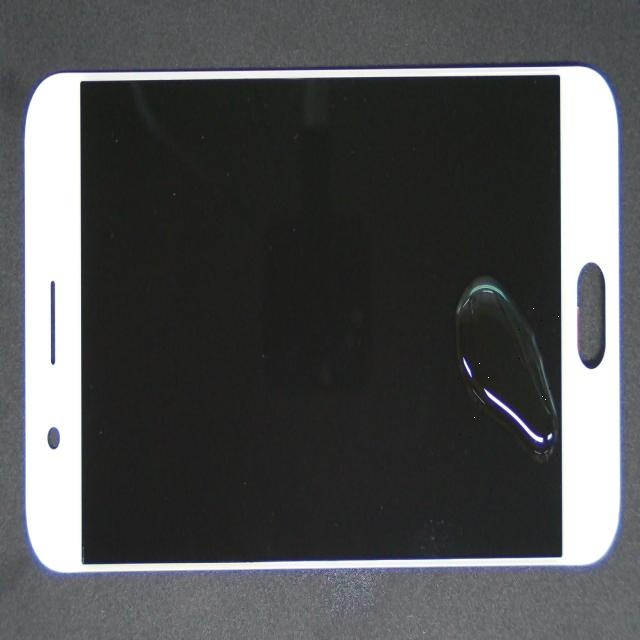oil: (253, 133, 640, 452)
